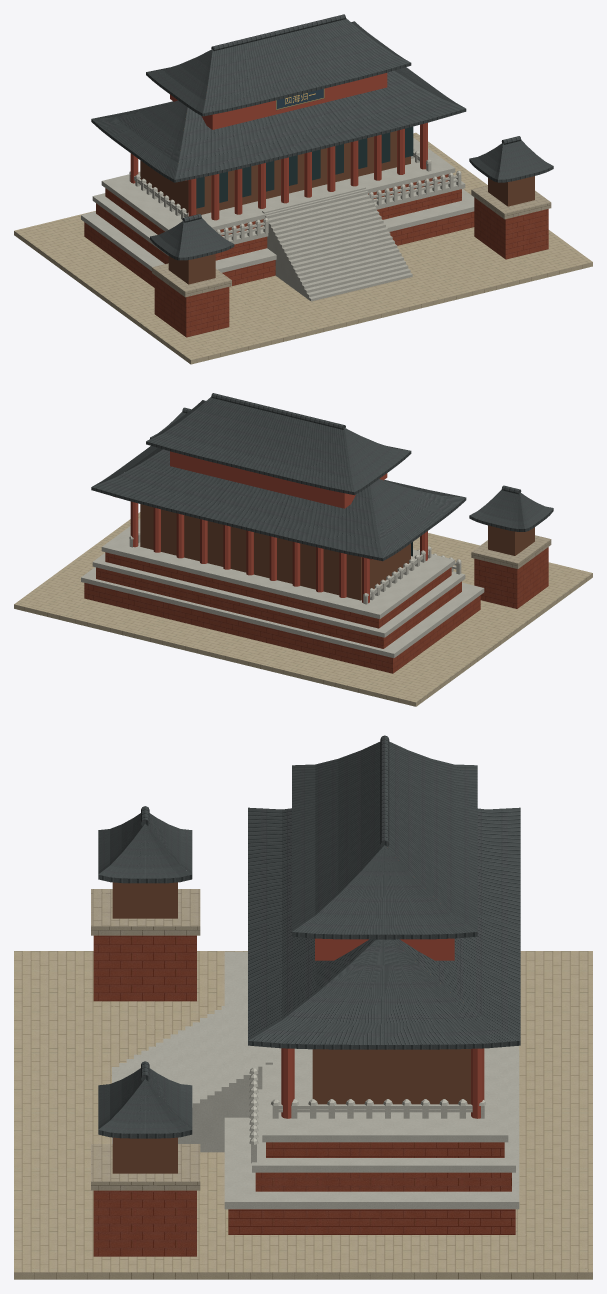
Rendered from hengdian.glb.
The picture shows the model from 3 angles, top to bottom: view 1: azimuth 30°, elevation 25°; view 2: azimuth 150°, elevation 25°; view 3: azimuth 270°, elevation 25°; orthographic projection. The views are drawn at different scales.
Visible parts, largest first — view 1: 横店影视城·秦王宫; view 2: 横店影视城·秦王宫; view 3: 横店影视城·秦王宫.
Boxes of the visible parts, x1,y1,x2,y2 form: 横店影视城·秦王宫: [14, 14, 592, 364]; 横店影视城·秦王宫: [14, 393, 592, 706]; 横店影视城·秦王宫: [14, 735, 592, 1279].
Size of the model in its own units: 17.2 by 8.26 by 13.1.
Materials: 10 (6 with a texture image).
